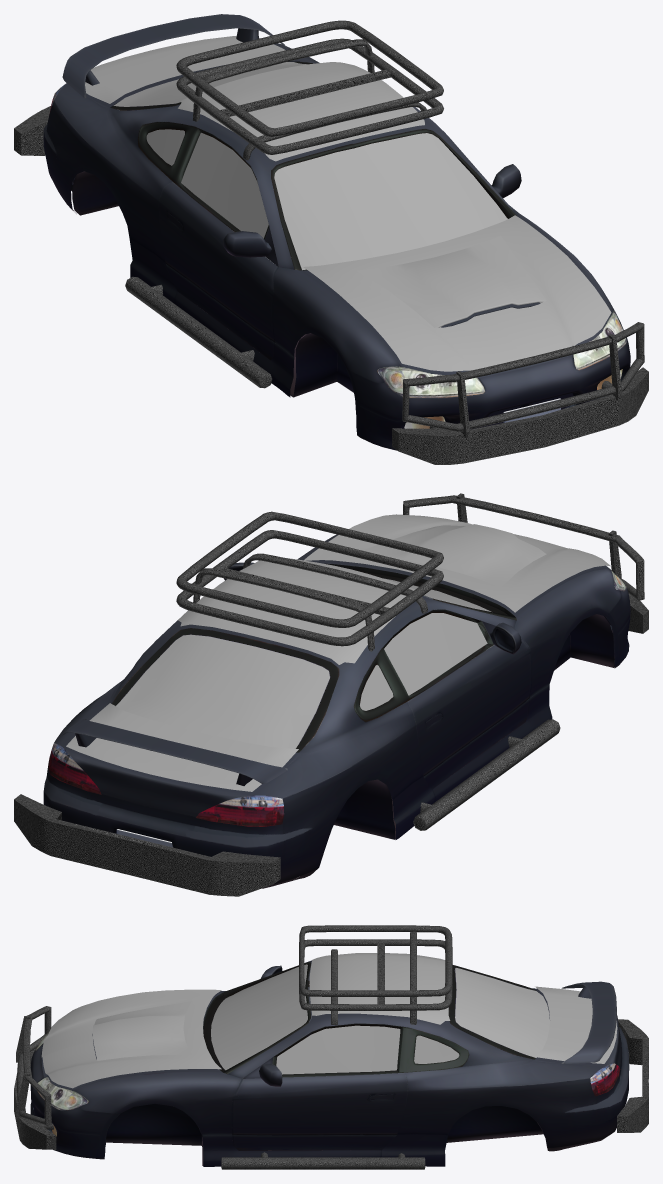
Rendered from Nissan_Silvia_S15new.fbx.
The picture shows the model from 3 angles, top to bottom: view 1: azimuth 30°, elevation 25°; view 2: azimuth 150°, elevation 25°; view 3: azimuth 270°, elevation 25°; orthographic projection. The views are drawn at different scales.
Parts seen in each view (by area): view 1: Nissan_base, exportobj:Nissan_carbon, pasted__pasted__pasted__polySurface31, pasted__pasted__pasted__polySurface21, polySurface51, polySurface12; view 2: Nissan_base, exportobj:Nissan_carbon, pasted__pasted__pasted__polySurface31, pasted__pasted__pasted__polySurface21, polySurface52, polySurface12, polySurface51; view 3: Nissan_base, exportobj:Nissan_carbon, pasted__pasted__pasted__polySurface31, pasted__pasted__pasted__polySurface21, polySurface52, polySurface12, polySurface51.
Part boxes in pixels (bbox=[...]): Nissan_base: bbox=[46, 43, 629, 427]; exportobj:Nissan_carbon: bbox=[85, 36, 611, 371]; pasted__pasted__pasted__polySurface31: bbox=[125, 20, 443, 388]; pasted__pasted__pasted__polySurface21: bbox=[14, 106, 648, 464]; polySurface51: bbox=[354, 353, 630, 450]; polySurface12: bbox=[62, 14, 287, 98]; Nissan_base: bbox=[46, 534, 629, 880]; exportobj:Nissan_carbon: bbox=[66, 514, 610, 791]; pasted__pasted__pasted__polySurface31: bbox=[176, 511, 560, 830]; pasted__pasted__pasted__polySurface21: bbox=[14, 493, 648, 896]; polySurface52: bbox=[43, 777, 312, 888]; polySurface12: bbox=[63, 719, 287, 785]; polySurface51: bbox=[610, 604, 630, 668]; Nissan_base: bbox=[31, 960, 621, 1166]; exportobj:Nissan_carbon: bbox=[41, 953, 617, 1088]; pasted__pasted__pasted__polySurface31: bbox=[221, 925, 452, 1169]; pasted__pasted__pasted__polySurface21: bbox=[14, 1006, 648, 1149]; polySurface52: bbox=[565, 1027, 629, 1147]; polySurface12: bbox=[561, 981, 616, 1063]; polySurface51: bbox=[30, 1062, 108, 1159].
Bounding box in the file's own units: 198 × 131 × 471.
